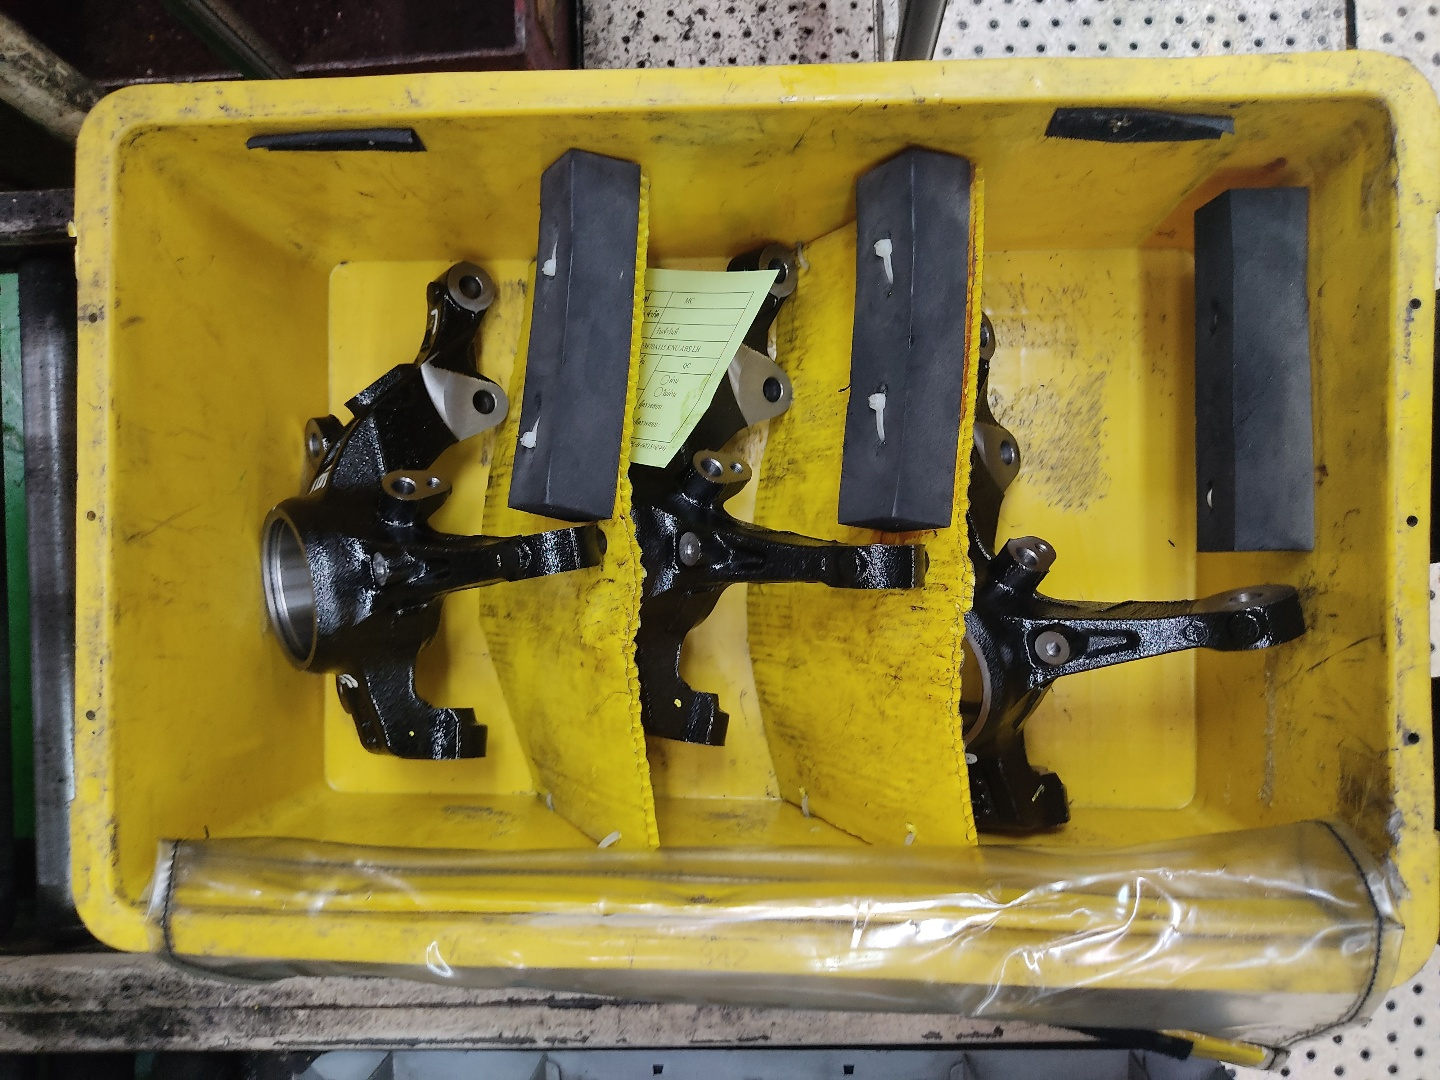abs-lh: (945, 299, 1319, 852), (249, 250, 612, 773), (624, 233, 935, 761)
